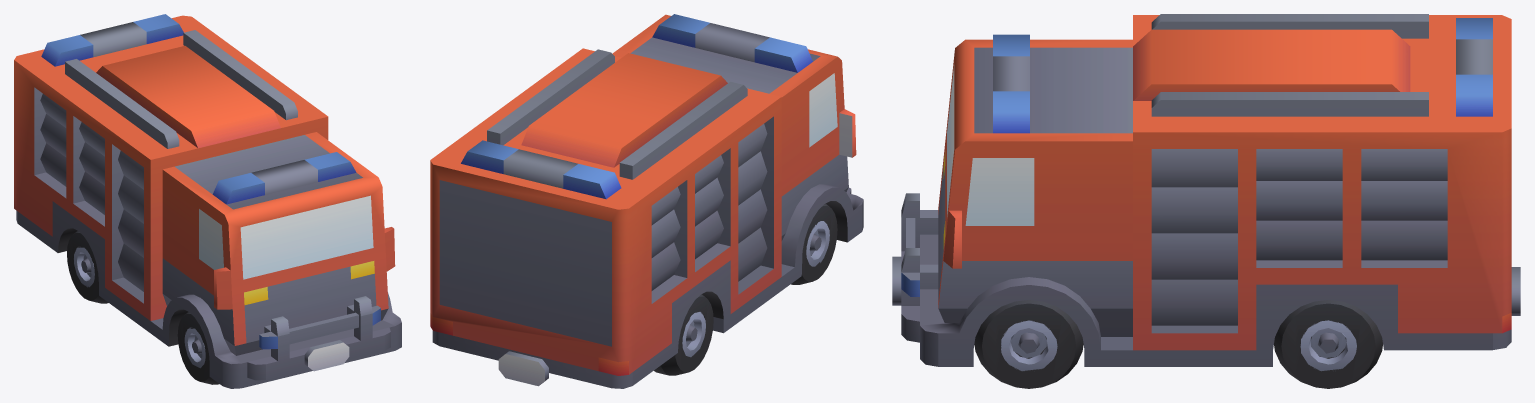
File: traffic_firetruck.glb
The picture shows the model from 3 angles, left to right: view 1: azimuth 30°, elevation 25°; view 2: azimuth 150°, elevation 25°; view 3: azimuth 270°, elevation 25°; orthographic projection. The views are drawn at different scales.
Parts seen in each view (by area): view 1: body; view 2: body; view 3: body.
Part boxes in pixels (box(x1,y1,x2,y2)): body: box(14, 14, 401, 388); body: box(430, 14, 863, 388); body: box(892, 14, 1520, 388).
Size of the model in its own units: 1.5 by 1.7 by 3.4.
Materials: 1 (1 with a texture image).
